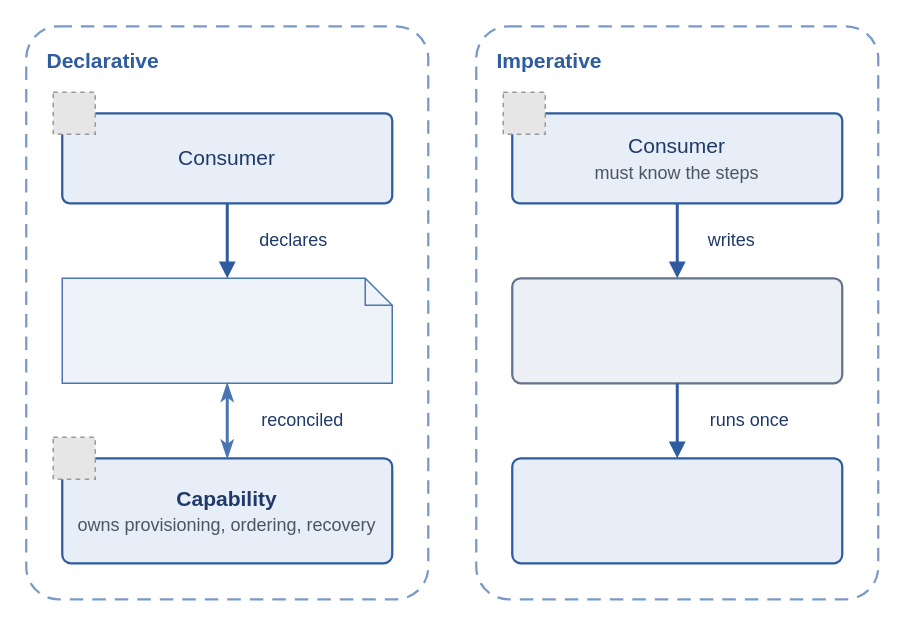
Image size: 906x627. Some labels were removed from this diagram. Grey dashed boxes stand in for pictures. The shapes that lost their labels are listed below. From the top down, each one's centre as x and y in pixels, then its label:
At point (226, 330): "Desired state engine, size, backup policy".
At point (676, 330): "Ordered steps provision, order, recover".
At point (676, 510): "Capability executes what it is told".
